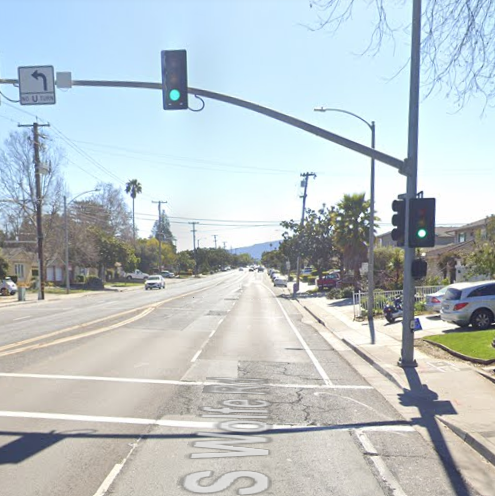green_light: (163, 50, 186, 110), (413, 202, 432, 243)
